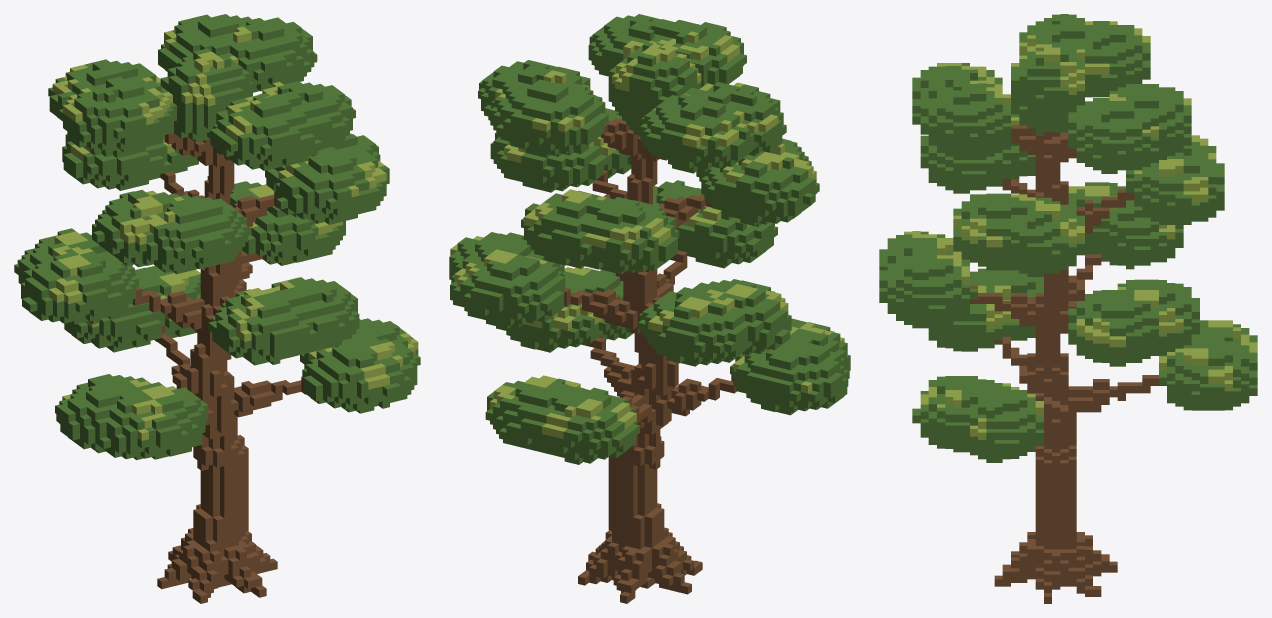
3 renders of one model, left to right at view 1: azimuth 30°, elevation 25°; view 2: azimuth 150°, elevation 25°; view 3: azimuth 270°, elevation 25°, orthographic.
Visible parts, largest first — view 1: 近远林冠代理组件; view 2: 近远林冠代理组件; view 3: 近远林冠代理组件.
Boxes of the visible parts, left/top/right/bottom form: 近远林冠代理组件: left=14, top=14, right=420, bottom=603; 近远林冠代理组件: left=449, top=14, right=850, bottom=603; 近远林冠代理组件: left=879, top=14, right=1257, bottom=603.
Size of the model in its own units: 9.6 by 14 by 9.2.
3 materials, 3 textured.
